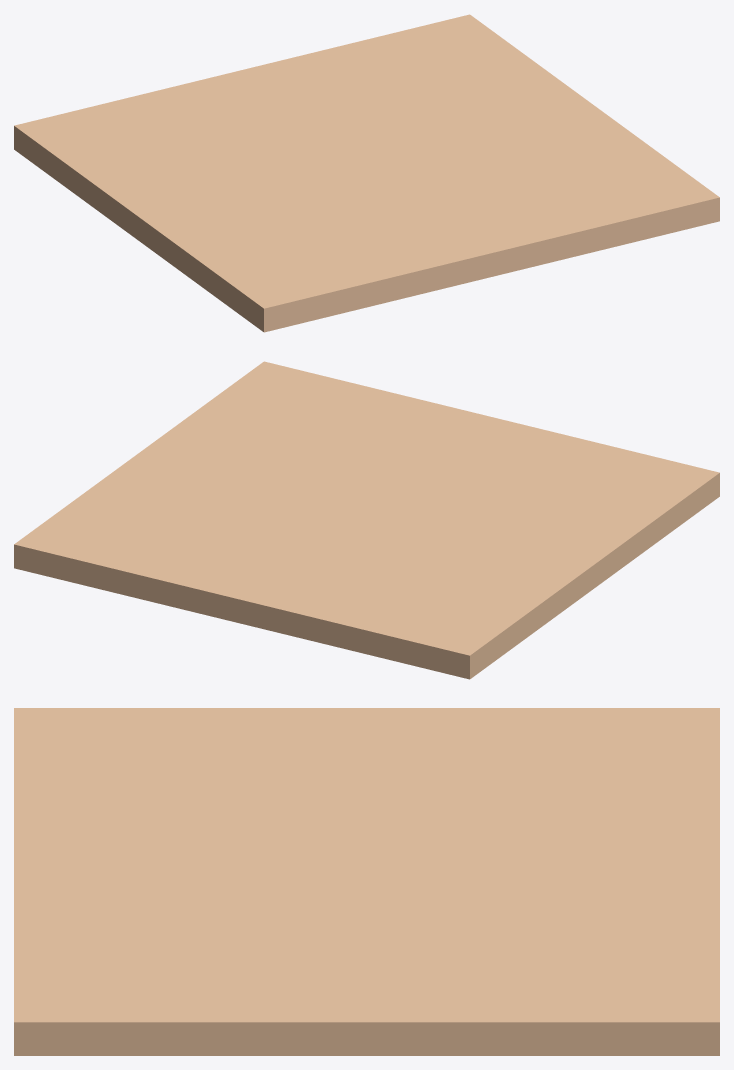
The model's file is floor.fbx.
3 renders of one model, top to bottom at view 1: azimuth 30°, elevation 25°; view 2: azimuth 150°, elevation 25°; view 3: azimuth 270°, elevation 25°, orthographic. The views are drawn at different scales.
Parts seen in each view (by area): view 1: floorFull; view 2: floorFull; view 3: floorFull.
Part boxes in pixels (x1,y1,x2,y2): floorFull: [14, 14, 719, 332]; floorFull: [14, 361, 719, 679]; floorFull: [14, 708, 719, 1055].
Bounding box in the file's own units: 100 × 95 × 5.
